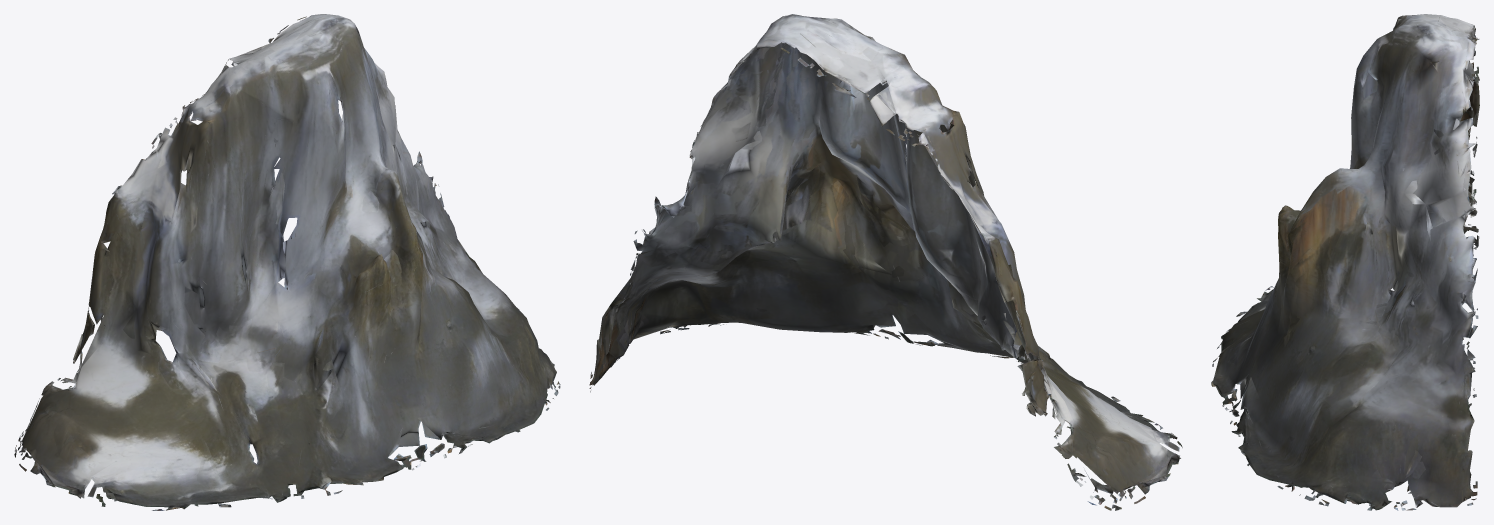
File: 중국_신화속_구름_0728100828_texture.fbx
3 views of the same model, side by side, from view 1: azimuth 30°, elevation 25°; view 2: azimuth 150°, elevation 25°; view 3: azimuth 270°, elevation 25° (orthographic). The views are drawn at different scales.
Parts seen in each view (by area): view 1: Mesh1.0; view 2: Mesh1.0; view 3: Mesh1.0.
Boxes of the visible parts, <box> form: Mesh1.0: <box>14,14,560,510</box>; Mesh1.0: <box>589,14,1182,510</box>; Mesh1.0: <box>1211,14,1479,510</box>.
Bounding box in the file's own units: 198 × 142 × 88.86.
Materials: 1 (1 with a texture image).
